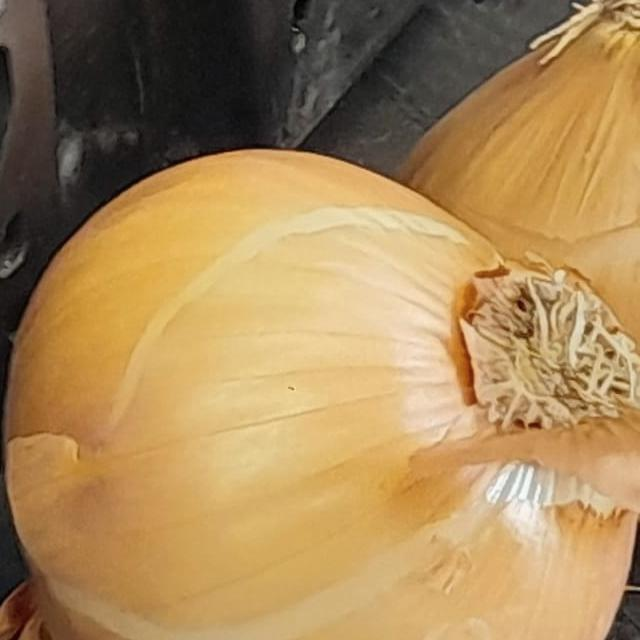onion: (0, 110, 640, 640), (417, 0, 640, 505)
